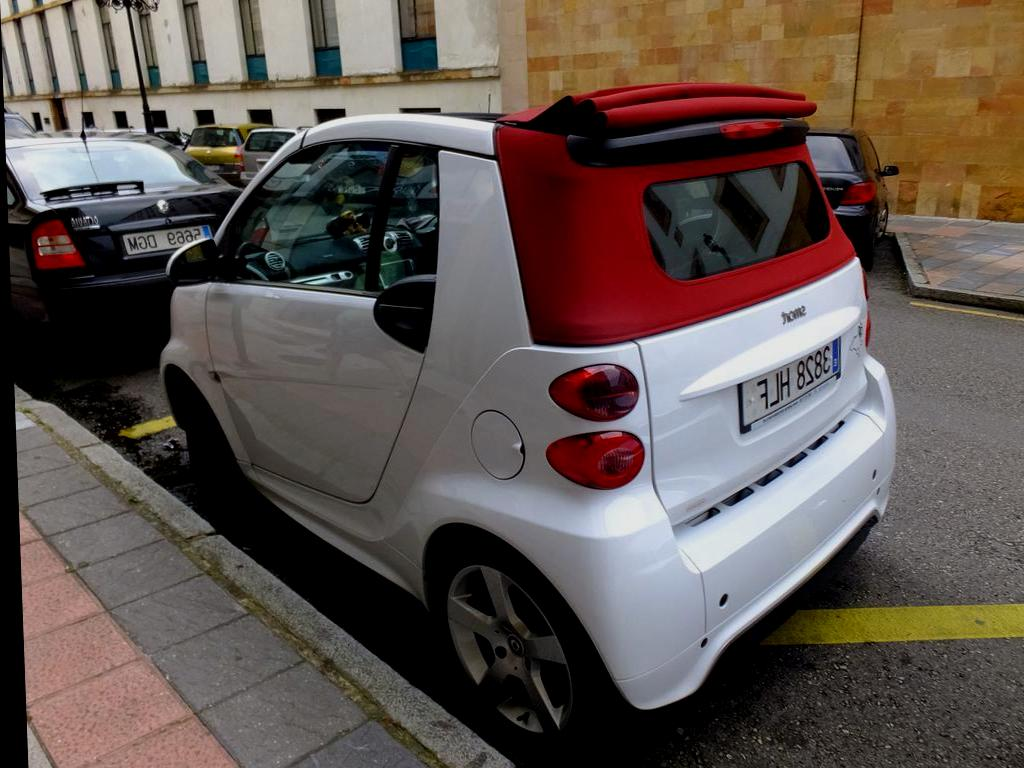License_Plate: (738, 337, 845, 432), (124, 223, 219, 260)
